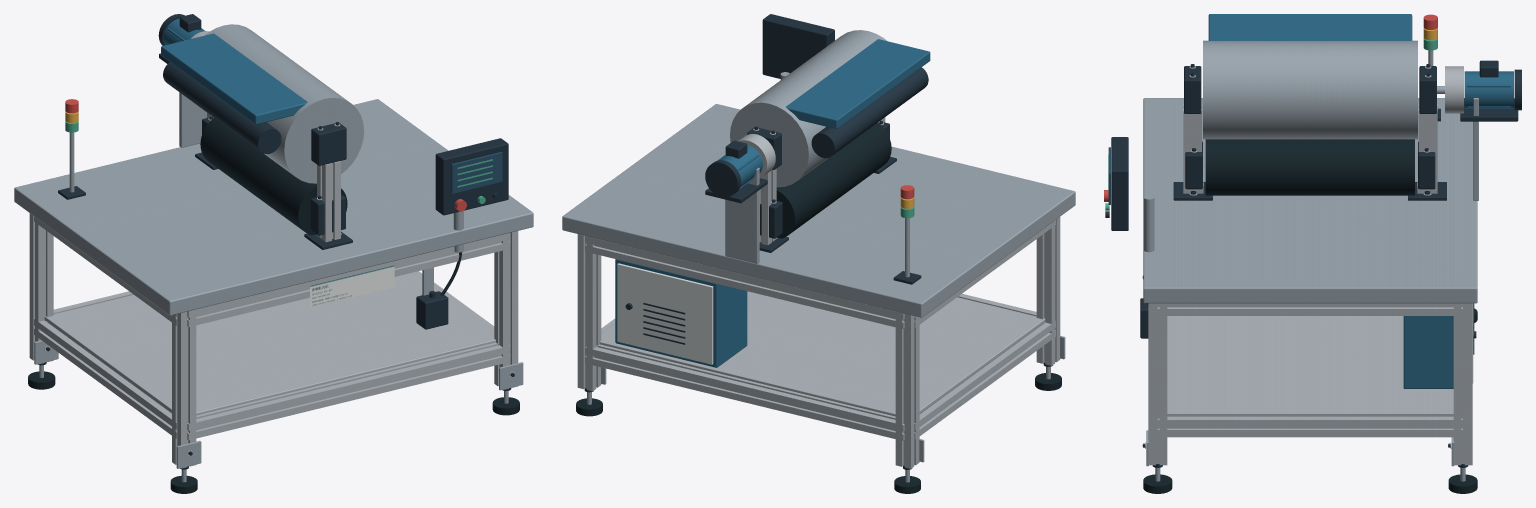
File: fabric-calender-cell.glb
3 views of the same model, side by side, from view 1: azimuth 30°, elevation 25°; view 2: azimuth 150°, elevation 25°; view 3: azimuth 270°, elevation 25° (orthographic). The views are drawn at different scales.
Visible parts, largest first — view 1: ClosedMachineBed_40, LowerShelf_41, WorkingCylinder_71, SlottedExtrusion_34, FluidTray_135, CounterRoll_109, SlottedExtrusion_35, SlottedExtrusion_11, SlottedExtrusion_36, SlottedExtrusion_27, ConsoleBack_52, MeteringRoll_134 (+11 smaller); view 2: ClosedMachineBed_40, LowerShelf_41, BackDoor_43, SlottedExtrusion_32, WorkingCylinder_71, FluidTray_135, CounterRoll_109, SlottedExtrusion_33, SlottedExtrusion_3, SlottedExtrusion_19, Cabinet_42, ConsoleBack_52 (+10 smaller); view 3: ClosedMachineBed_40, LowerShelf_41, WorkingCylinder_71, CounterRoll_109, SlottedExtrusion_38, FluidTray_135, SlottedExtrusion_39, Cabinet_42, SlottedExtrusion_27, SlottedExtrusion_19, ConsoleBack_52, MotorBody_97 (+12 smaller).
Boxes of the visible parts, x1,y1,x2,y2 form: ClosedMachineBed_40: (14,99,533,315); LowerShelf_41: (44,272,495,415); WorkingCylinder_71: (205,24,363,183); SlottedExtrusion_34: (187,342,510,440); FluidTray_135: (161,33,307,124); CounterRoll_109: (200,118,347,235); SlottedExtrusion_35: (187,232,510,327); SlottedExtrusion_11: (172,309,196,468); SlottedExtrusion_36: (34,318,177,438); SlottedExtrusion_27: (494,231,518,389); ConsoleBack_52: (435,138,508,215); MeteringRoll_134: (163,62,281,154); ClosedMachineBed_40: (562,104,1075,317); LowerShelf_41: (599,291,1045,416); BackDoor_43: (617,263,713,364); SlottedExtrusion_32: (585,344,904,440); WorkingCylinder_71: (730,30,887,187); FluidTray_135: (786,39,930,128); CounterRoll_109: (776,122,891,238); SlottedExtrusion_33: (585,236,904,329); SlottedExtrusion_3: (895,313,919,468); SlottedExtrusion_19: (577,234,601,391); Cabinet_42: (615,259,747,367); ConsoleBack_52: (762,14,834,78); ClosedMachineBed_40: (1143,98,1477,303); LowerShelf_41: (1167,316,1453,416); WorkingCylinder_71: (1203,40,1417,139); CounterRoll_109: (1205,139,1414,195); SlottedExtrusion_38: (1157,416,1462,437); FluidTray_135: (1208,14,1412,40); SlottedExtrusion_39: (1157,303,1462,315); Cabinet_42: (1403,316,1453,388); SlottedExtrusion_27: (1148,303,1167,465); SlottedExtrusion_19: (1453,303,1472,465); ConsoleBack_52: (1111,137,1128,230); MotorBody_97: (1464,71,1513,108).
Size of the model in its own units: 1.55 by 1.36 by 1.44.
Materials: 11 (3 with a texture image).
